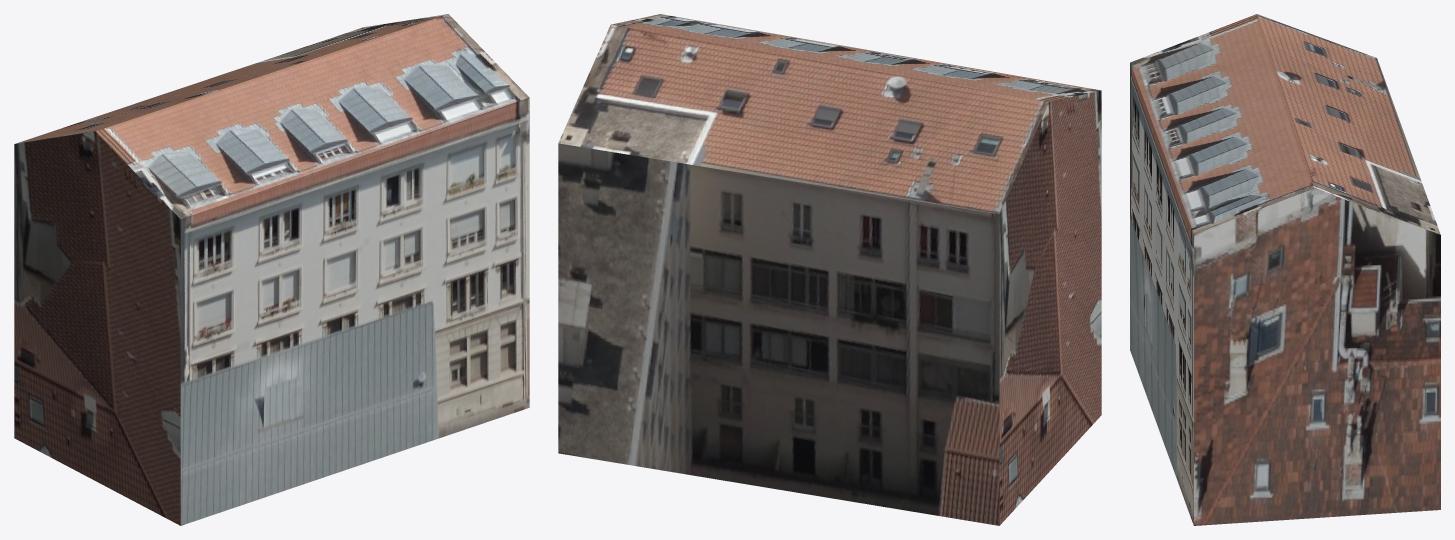
The picture shows the model from 3 angles, left to right: view 1: azimuth 30°, elevation 25°; view 2: azimuth 150°, elevation 25°; view 3: azimuth 270°, elevation 25°; orthographic projection. The views are drawn at different scales.
Parts seen in each view (by area): view 1: Z_UP; view 2: Z_UP; view 3: Z_UP.
Boxes of the visible parts, left/top/right/bottom form: Z_UP: left=14, top=14, right=529, bottom=525; Z_UP: left=558, top=14, right=1101, bottom=525; Z_UP: left=1130, top=14, right=1440, bottom=525.
Bounding box in the file's own units: 26.03 × 20.9 × 17.85.
Materials: 2 (1 with a texture image).
